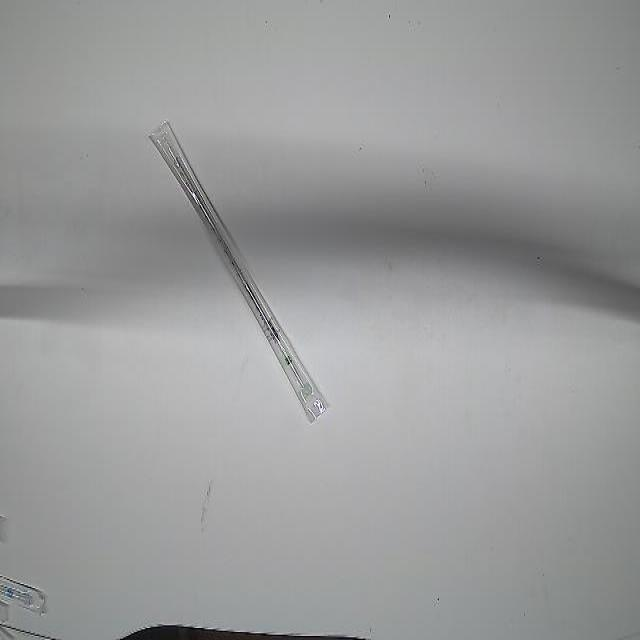Serelogical Pipet 2 mL - Sealed: (143, 113, 335, 427)
